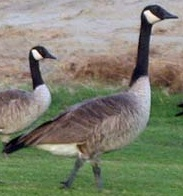goose: (11, 2, 182, 195), (1, 43, 59, 142)
